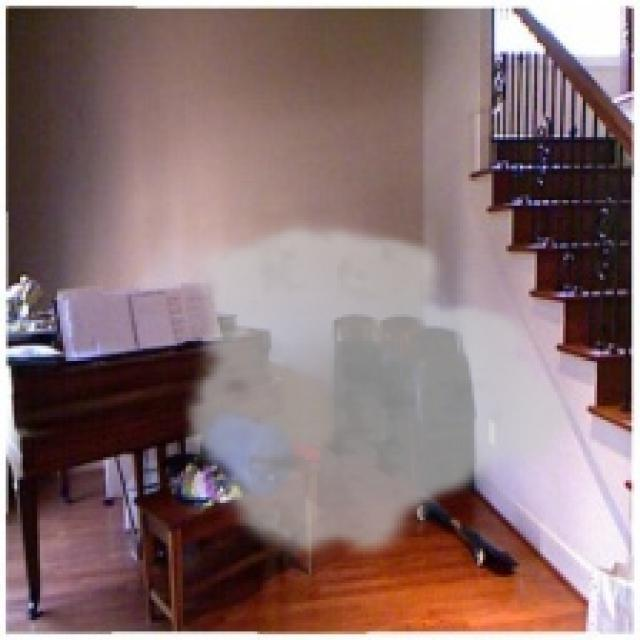Smoke: (180, 220, 586, 566)
